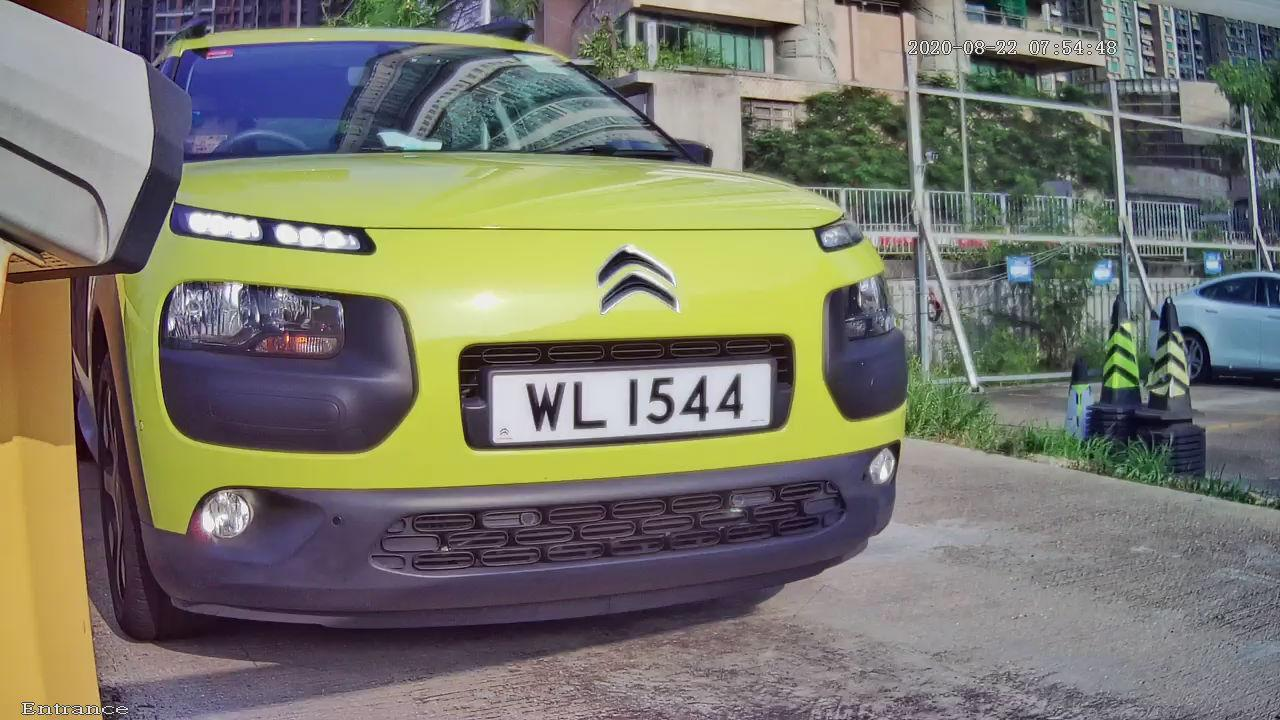Car: (35, 17, 989, 650)
License Plate: (452, 331, 828, 466)
